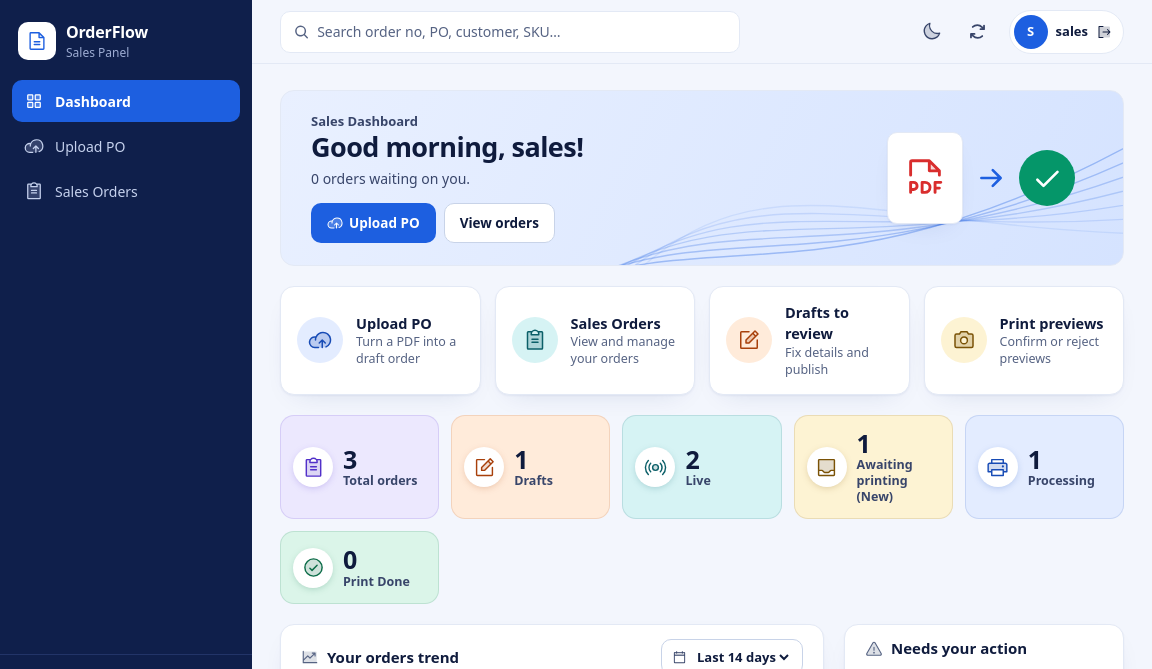
Scenario: app shell › switches theme and remembers it
This screenshot has width=1152, height=669.
Click the button named "Switch to dark mode".
click(932, 32)  # box [911, 10, 953, 52]
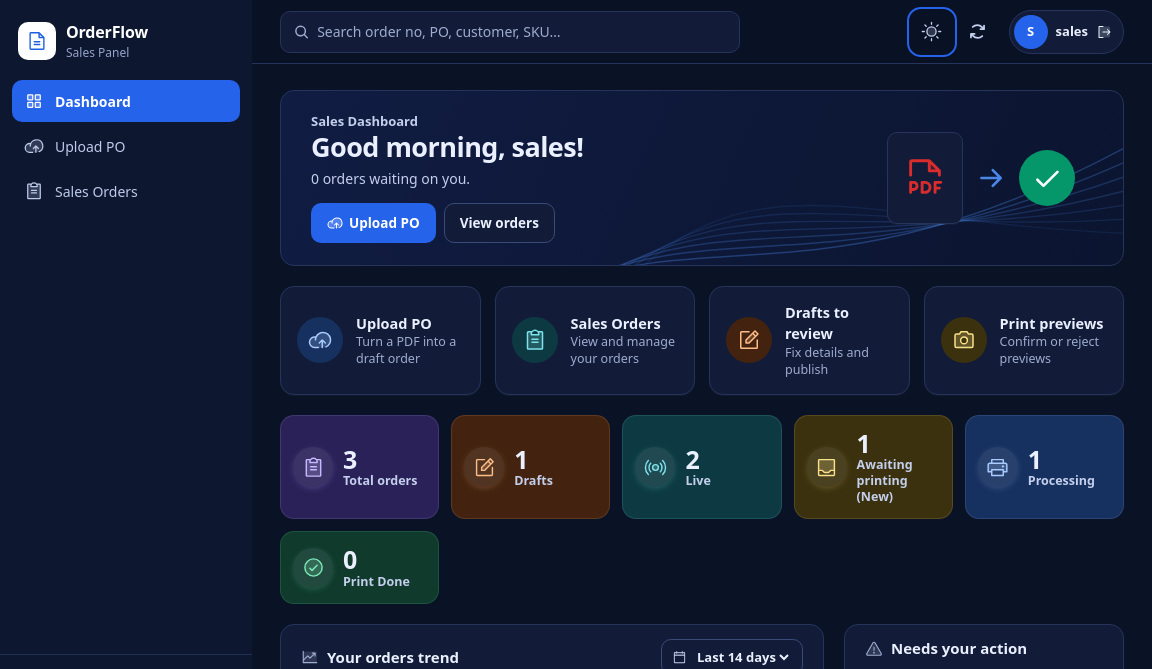
Now the button named "Switch to light mode" is shown, box [911, 10, 953, 52]
